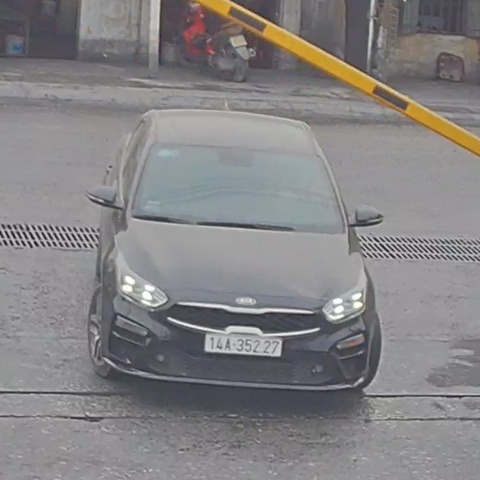vehicle plate: (201, 330, 285, 357)
